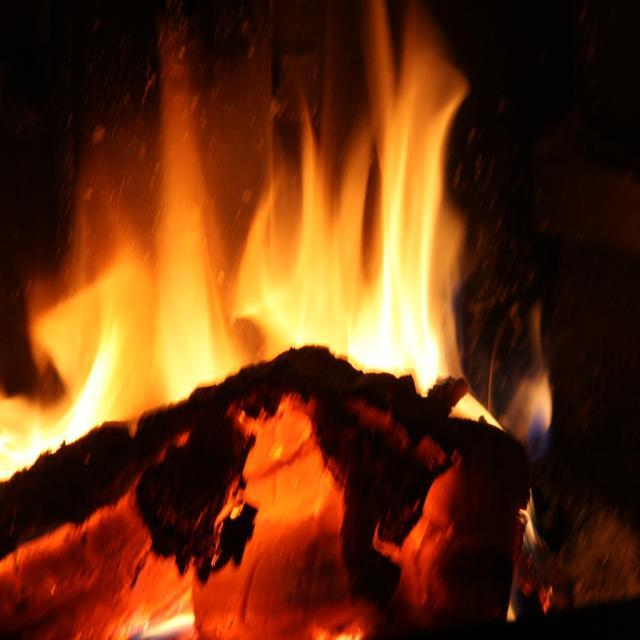Fire: (40, 196, 228, 376), (258, 194, 366, 352), (384, 109, 440, 372)
